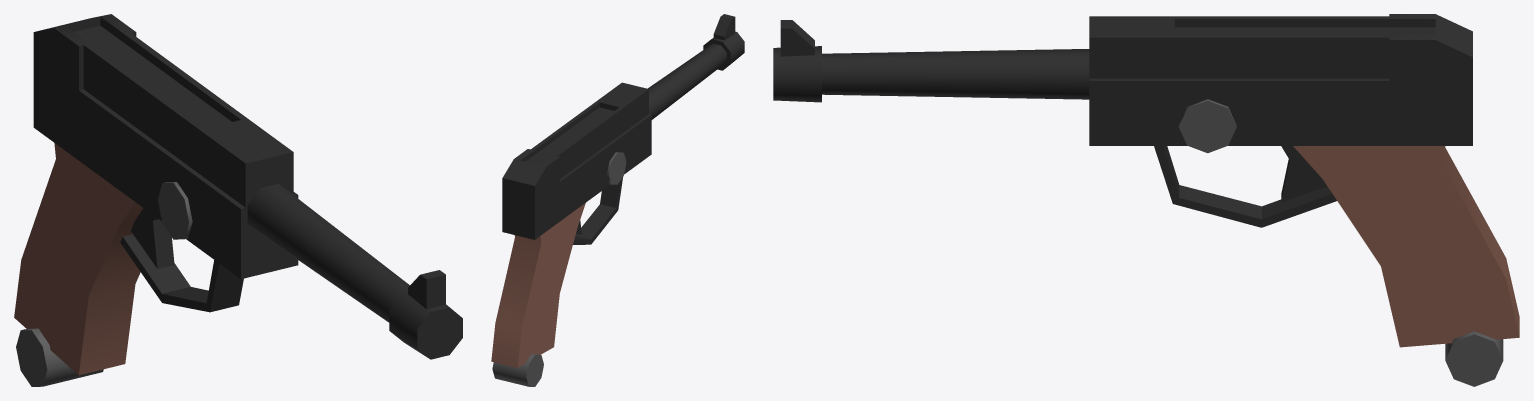
File: lugar.glb
The picture shows the model from 3 angles, left to right: view 1: azimuth 30°, elevation 25°; view 2: azimuth 150°, elevation 25°; view 3: azimuth 270°, elevation 25°; orthographic projection. The views are drawn at different scales.
Visible parts, largest first — view 1: Lugar_Body_54, Lugar_Body_Magazine_53, Cube011_52; view 2: Lugar_Body_54, Lugar_Body_Magazine_53; view 3: Lugar_Body_54, Lugar_Body_Magazine_53, Cube011_52.
Part boxes in pixels (box(x1,y1,x2,y2)): Lugar_Body_54: box(14, 14, 462, 375); Lugar_Body_Magazine_53: box(16, 328, 103, 386); Cube011_52: box(130, 208, 174, 268); Lugar_Body_54: box(491, 14, 744, 367); Lugar_Body_Magazine_53: box(492, 354, 543, 386); Lugar_Body_54: box(773, 14, 1519, 347); Lugar_Body_Magazine_53: box(1445, 331, 1503, 386); Cube011_52: box(1281, 146, 1326, 201).
Bounding box in the file's own units: 0.0741 × 0.4135 × 0.8013.
